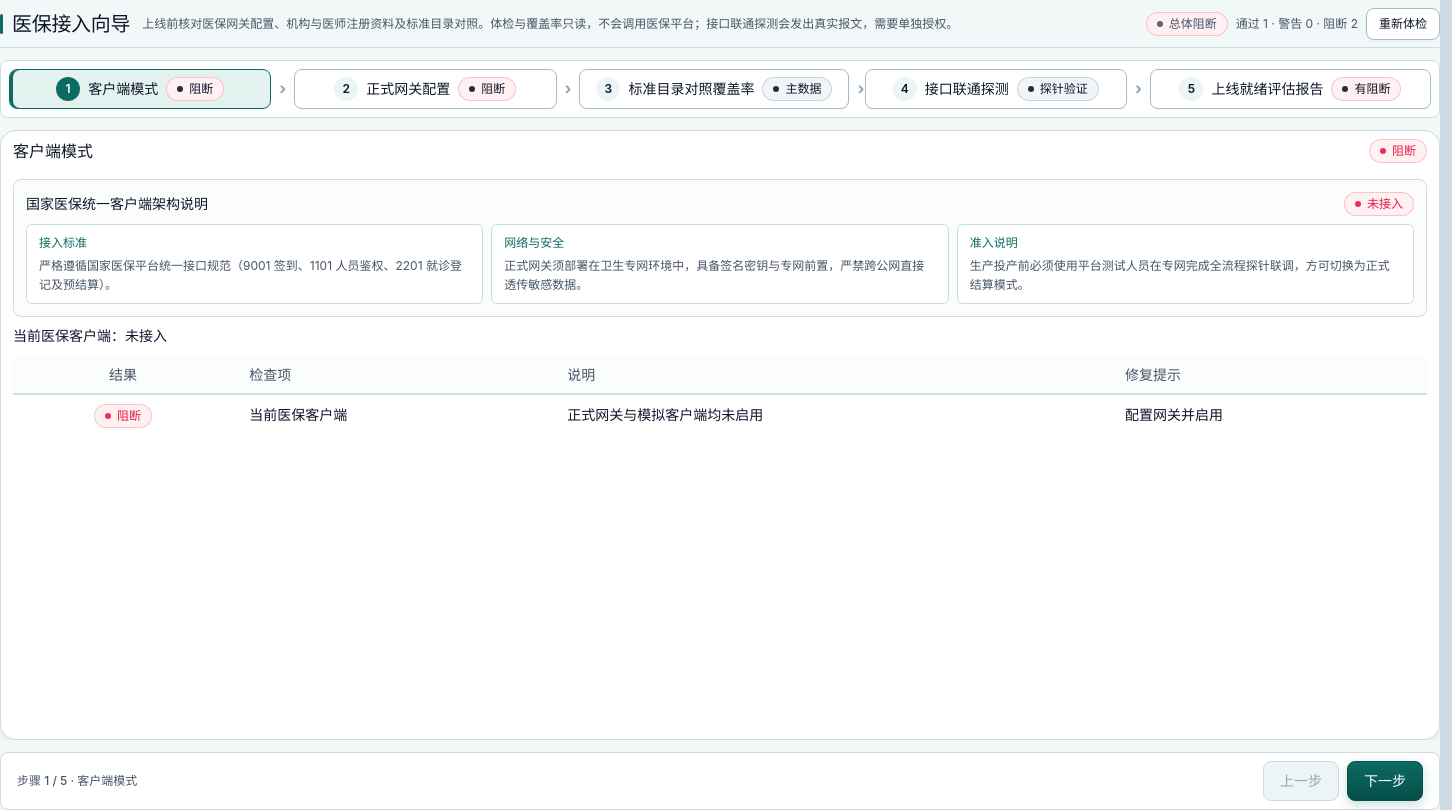
Scenario: InsuranceOnboardingWizard › offers the probe to authorised users and explains why it cannot run yet
Click the button "4 接口联通探测 探针验证".
click(996, 89)  # box [865, 69, 1127, 109]
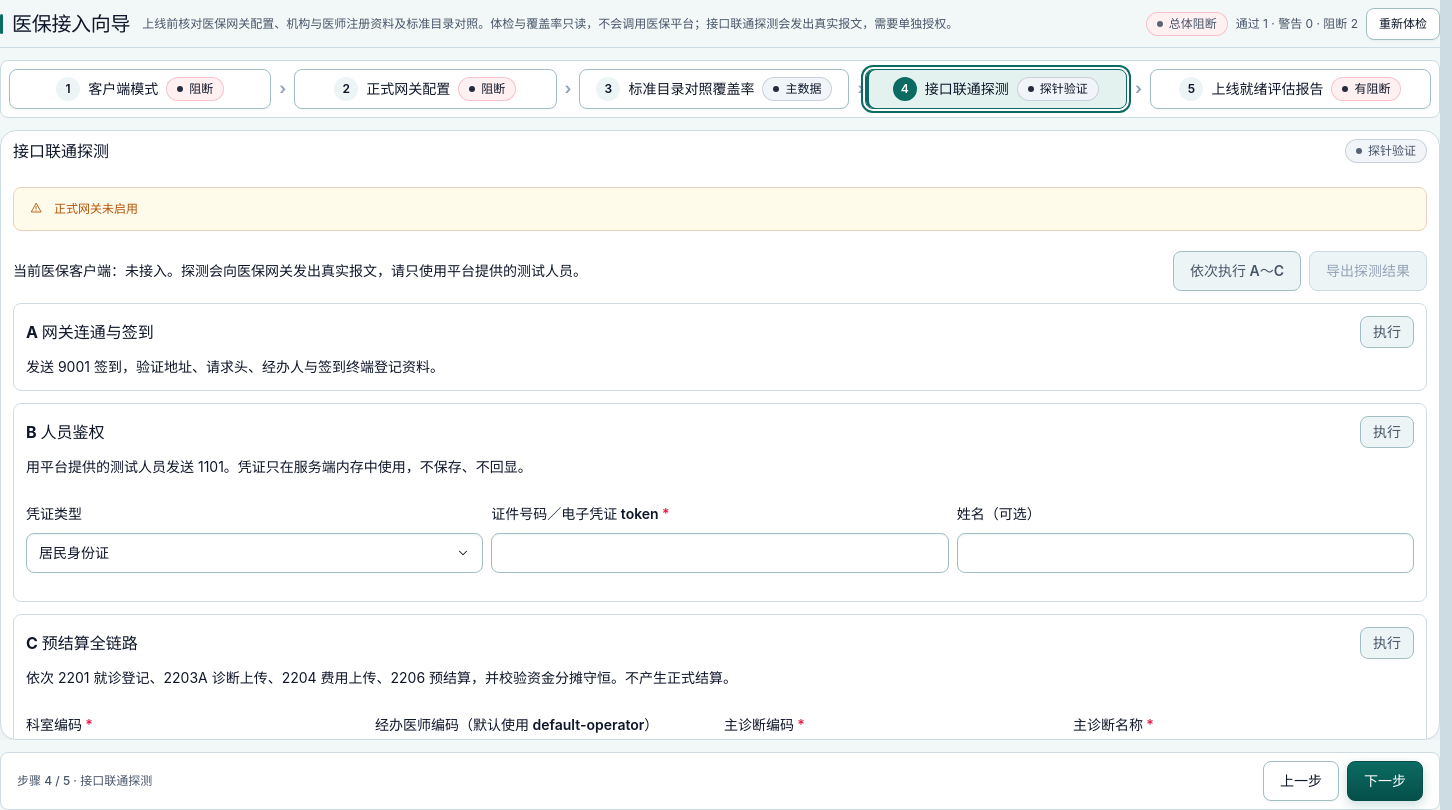
Expected: the text "正式网关未启用" is shown, [54, 201, 138, 216]
Expected: the heading "接口联通探测" is shown, [13, 139, 109, 163]
